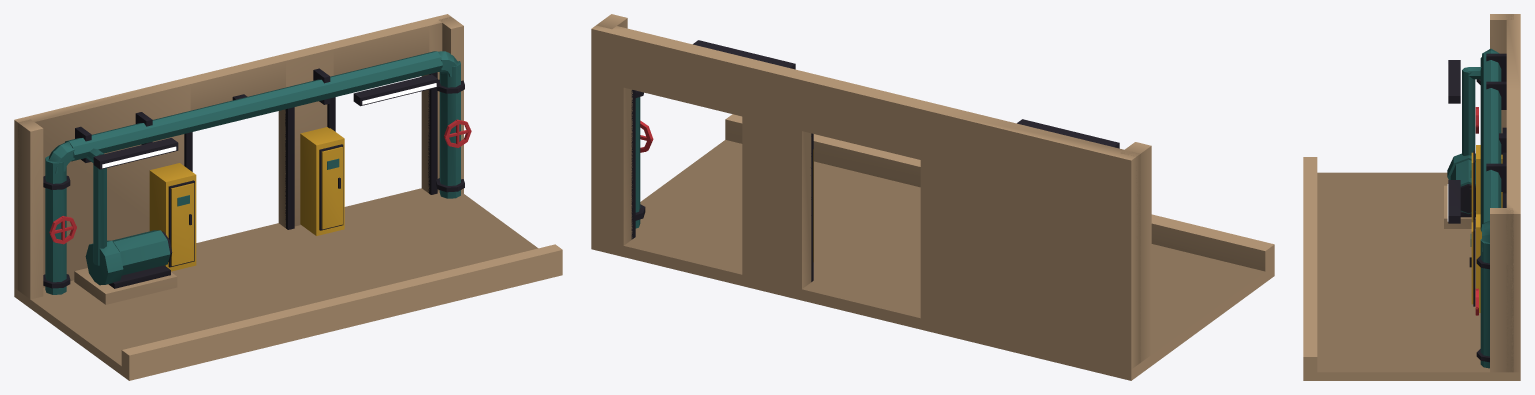
3 renders of one model, left to right at view 1: azimuth 30°, elevation 25°; view 2: azimuth 150°, elevation 25°; view 3: azimuth 270°, elevation 25°, orthographic. The views are drawn at different scales.
Visible parts, largest first — view 1: body_pal_khakiLight, body_pal_backpackTeal, body_pal_schoolBusYellow, body_pal_uiDark, body_pal_survivorRed, body_emi_picketWhite; view 2: body_pal_khakiLight, body_pal_uiDark, body_pal_backpackTeal; view 3: body_pal_khakiLight, body_pal_backpackTeal, body_pal_uiDark, body_pal_schoolBusYellow, body_pal_survivorRed.
Boxes of the visible parts, box(x1,y1,x2,y2) form: body_pal_khakiLight: box(14, 14, 562, 380); body_pal_backpackTeal: box(45, 51, 460, 294); body_pal_schoolBusYellow: box(149, 127, 344, 271); body_pal_uiDark: box(43, 68, 464, 288); body_pal_survivorRed: box(49, 119, 471, 244); body_emi_picketWhite: box(102, 83, 436, 168); body_pal_khakiLight: box(591, 14, 1274, 380); body_pal_uiDark: box(631, 40, 1119, 281); body_pal_backpackTeal: box(635, 97, 640, 228); body_pal_khakiLight: box(1303, 14, 1520, 380); body_pal_backpackTeal: box(1447, 48, 1501, 368); body_pal_uiDark: box(1448, 53, 1506, 362); body_pal_schoolBusYellow: box(1471, 145, 1502, 312); body_pal_survivorRed: box(1475, 107, 1478, 315).
Size of the model in its own units: 10 by 3.9 by 4.6.
